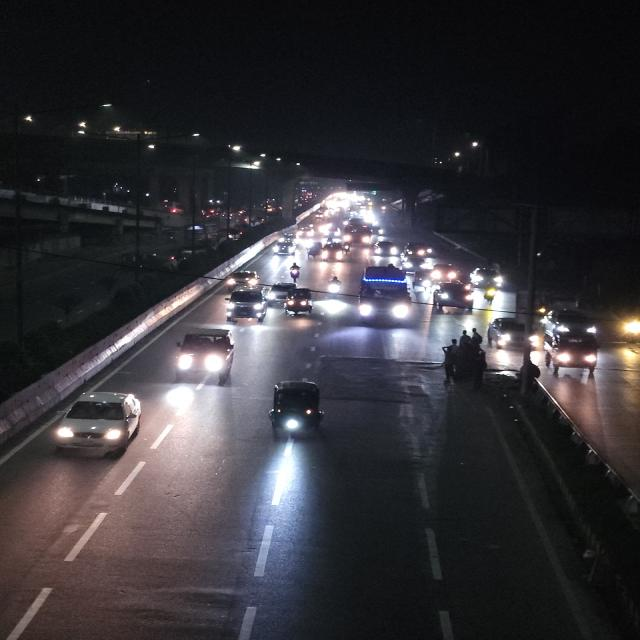bus: (354, 263, 414, 329), (342, 221, 372, 247)
car: (50, 388, 149, 460), (220, 288, 272, 322), (487, 315, 532, 351), (431, 280, 478, 314), (469, 266, 506, 290), (226, 268, 263, 288), (370, 239, 400, 260), (321, 241, 349, 263), (430, 262, 460, 282), (404, 240, 434, 258), (273, 241, 297, 257)
cng: (264, 377, 331, 444), (487, 316, 534, 352), (283, 287, 315, 319)
motorcycle: (324, 275, 345, 297), (305, 241, 323, 262), (482, 286, 499, 308), (288, 261, 304, 283)
pedestrian: (467, 346, 490, 388), (438, 341, 461, 382)
truck: (540, 308, 604, 376), (168, 325, 240, 385)
